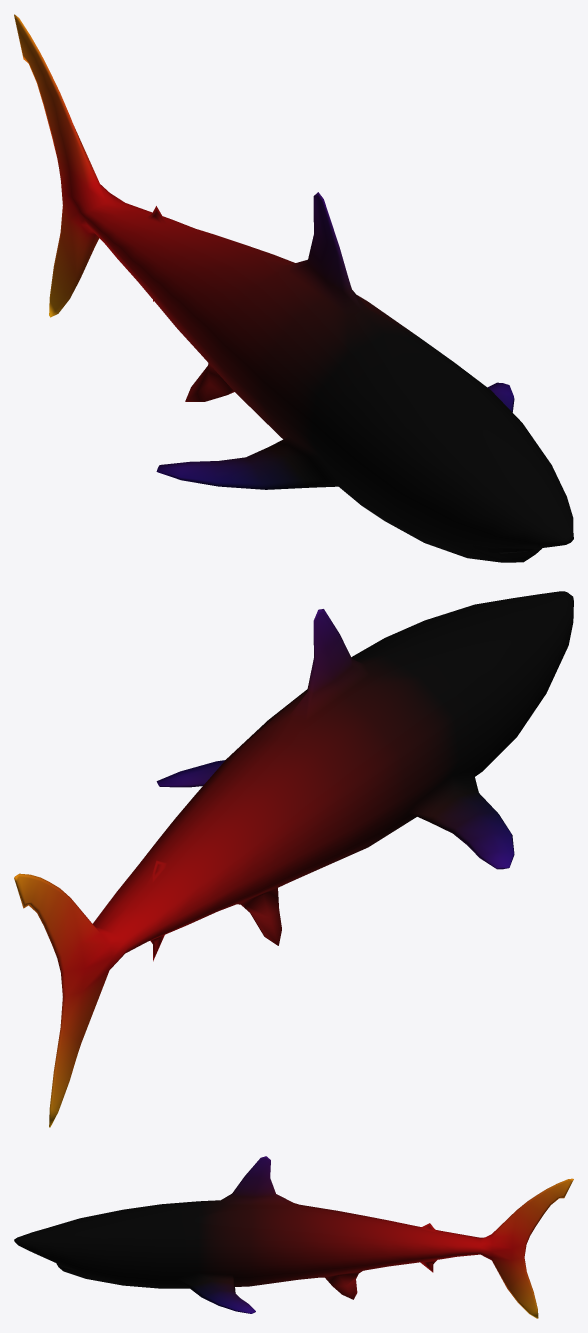
The picture shows the model from 3 angles, top to bottom: view 1: azimuth 30°, elevation 25°; view 2: azimuth 150°, elevation 25°; view 3: azimuth 270°, elevation 25°; orthographic projection. The views are drawn at different scales.
Parts seen in each view (by area): view 1: blue shark final; view 2: blue shark final; view 3: blue shark final.
Boxes of the visible parts, x1,y1,x2,y2 form: blue shark final: [14, 14, 573, 562]; blue shark final: [14, 591, 573, 1127]; blue shark final: [14, 1156, 573, 1318].
Bounding box in the file's own units: 1.05 × 0.9143 × 2.85.
